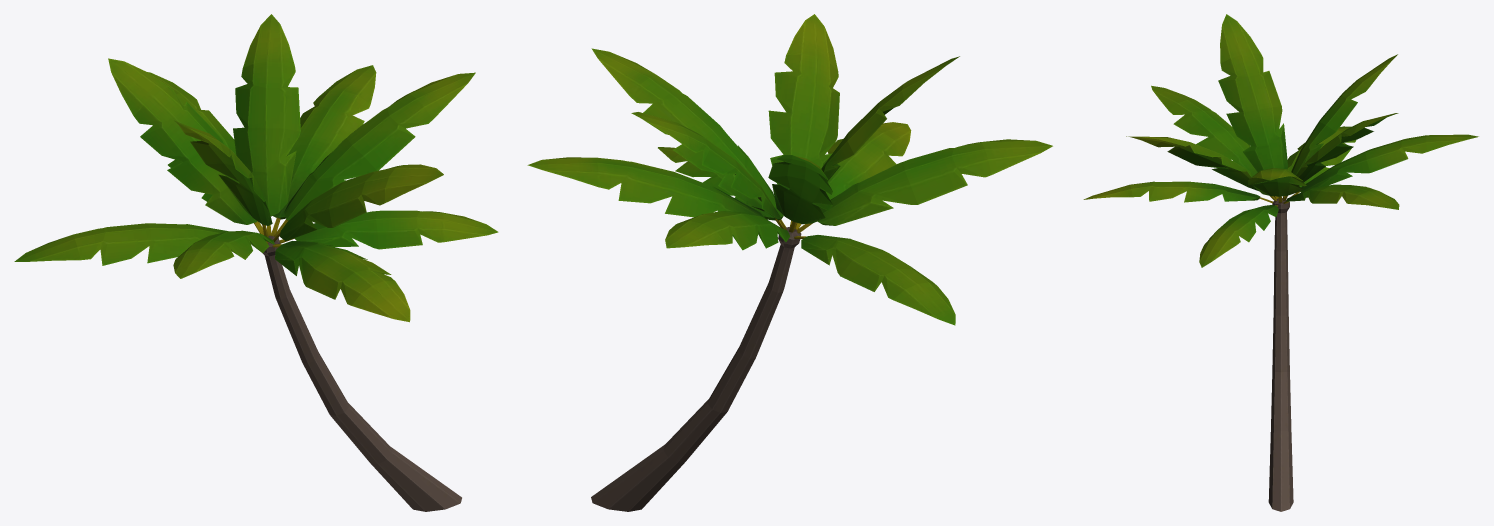
File: PalmTree2.glb
3 views of the same model, side by side, from view 1: azimuth 30°, elevation 25°; view 2: azimuth 150°, elevation 25°; view 3: azimuth 270°, elevation 25° (orthographic). The views are drawn at different scales.
Visible parts, largest first — view 1: Node; view 2: Node; view 3: Node.
Part boxes in pixels (x1,y1,x2,y2): Node: (14,14,498,511); Node: (527,14,1052,511); Node: (1083,14,1478,511).
Size of the model in its own units: 15.28 by 17.24 by 16.55.
Materials: 1 (1 with a texture image).
